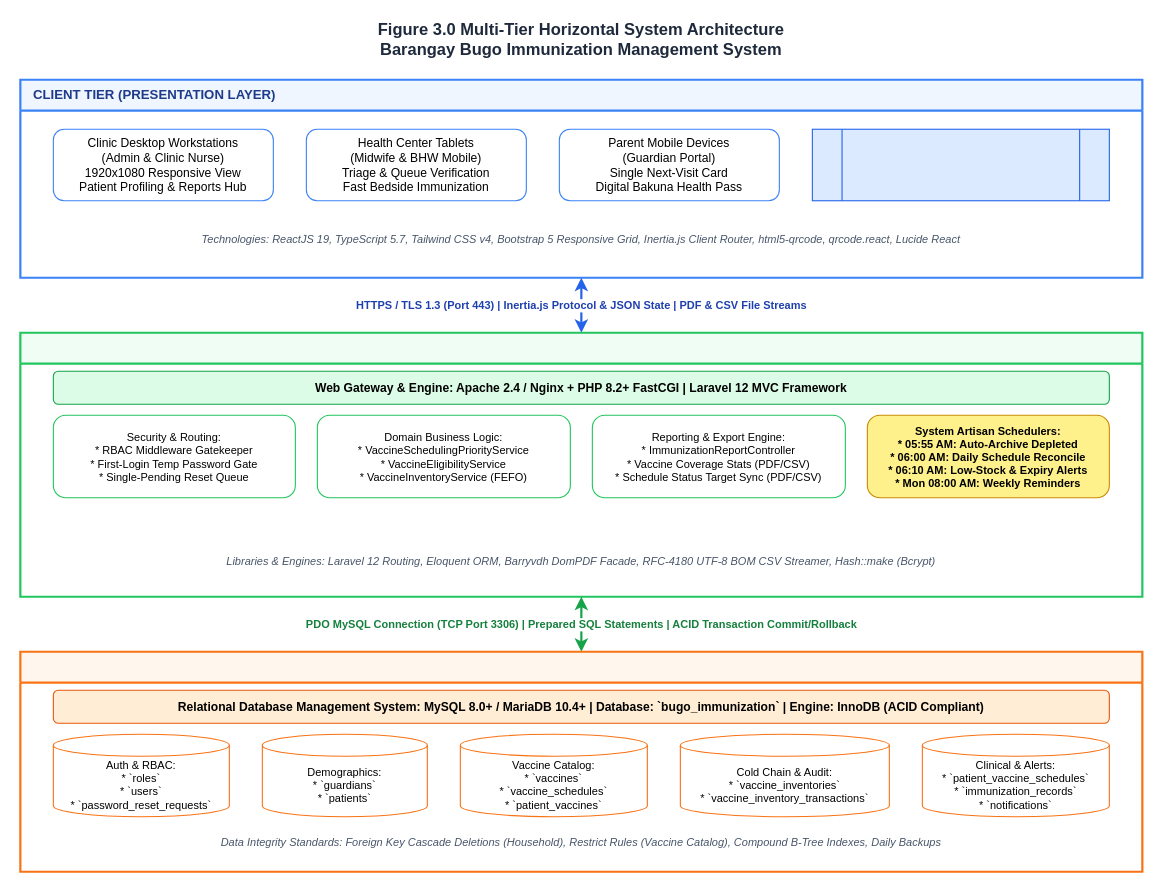
The diagram is 1162 pixels wide and 892 high, and some of its shapes have lost their labels. The box of each missing label's shape, as (x1, y1, x2, y2) in pixels:
APPLICATION TIER (WEB SERVER & BUSINESS LOGIC LAYER): (19, 331, 1143, 597)
DATA TIER (PERSISTENCE & STORAGE LAYER): (19, 650, 1143, 872)
Hardware Peripheral: HTML5 Camera QR Scanner & High-Contrast QR Generator: (811, 128, 1109, 201)
